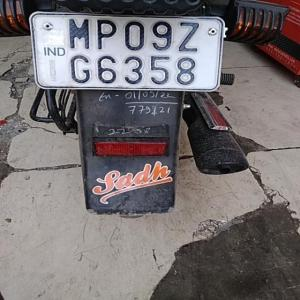Plate: (39, 17, 212, 87)
